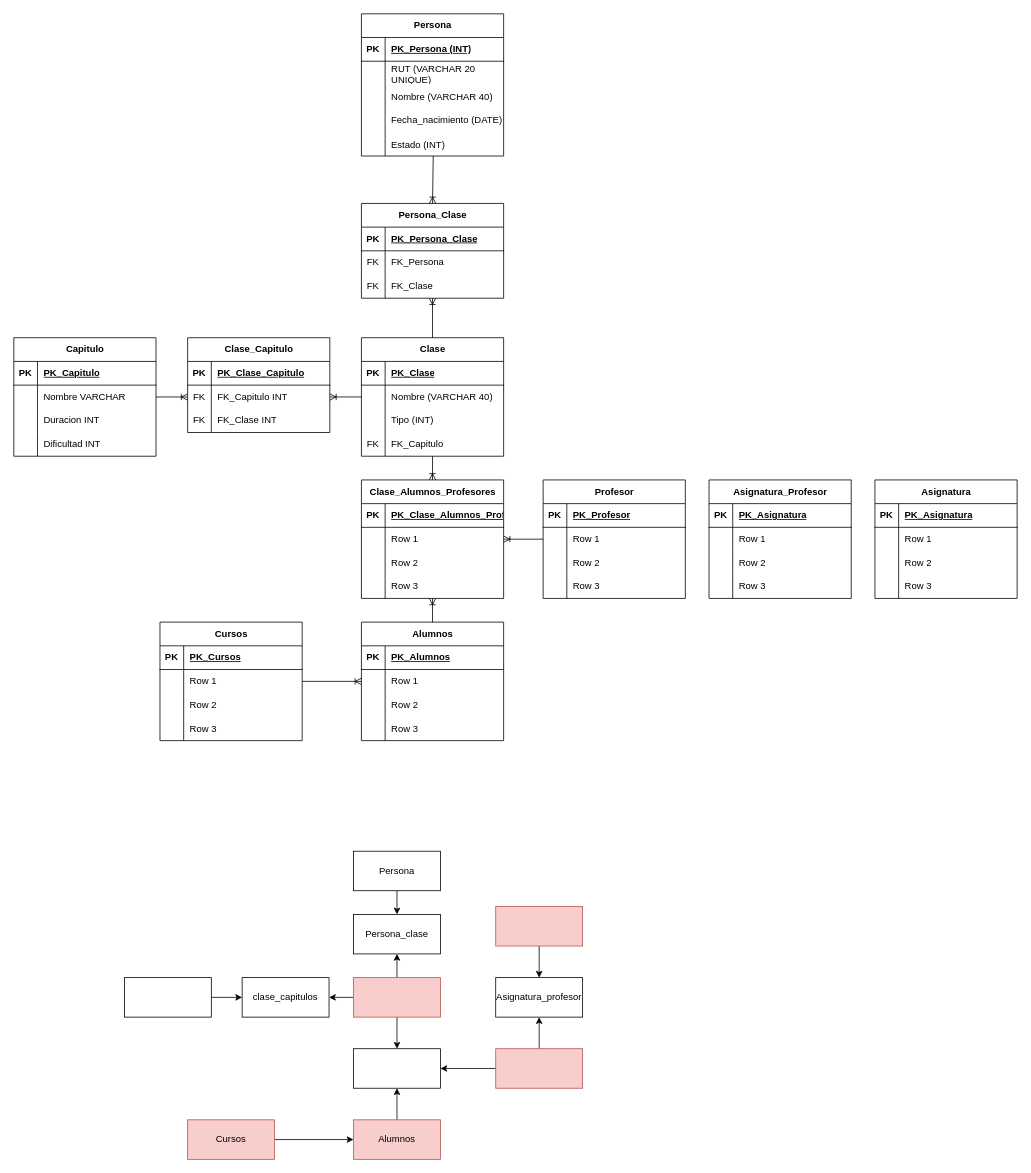
The diagram is 1031 pixels wide and 1173 high, and some of its shapes have lost their labels. Here are the shapes that lost their labels. From the top down, the centre of each, then its label:
At point 539,926: "Asignaturas".
At point 167,997: "Capitulos".
At point 396,997: "Clase o Tutorias".
At point 396,1068: "Tabla intermedia".
At point 539,1068: "Profesores".
